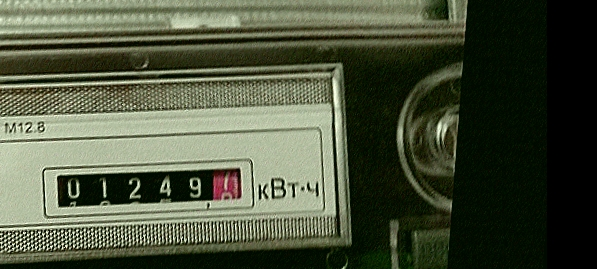0: (61, 173, 82, 200)
1: (93, 174, 110, 200)
2: (123, 174, 145, 202)
4: (155, 171, 175, 199)
7: (216, 168, 233, 193)
9: (184, 173, 204, 199)
screen: (31, 146, 269, 238)
